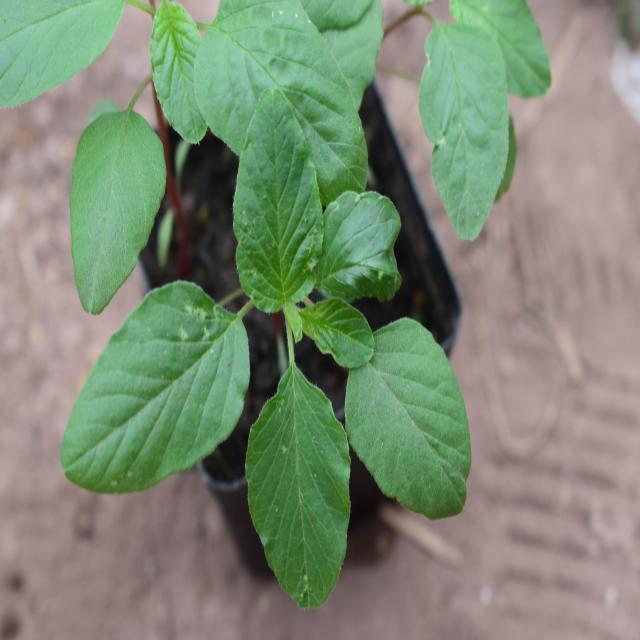pigweed: (88, 128, 465, 582)
